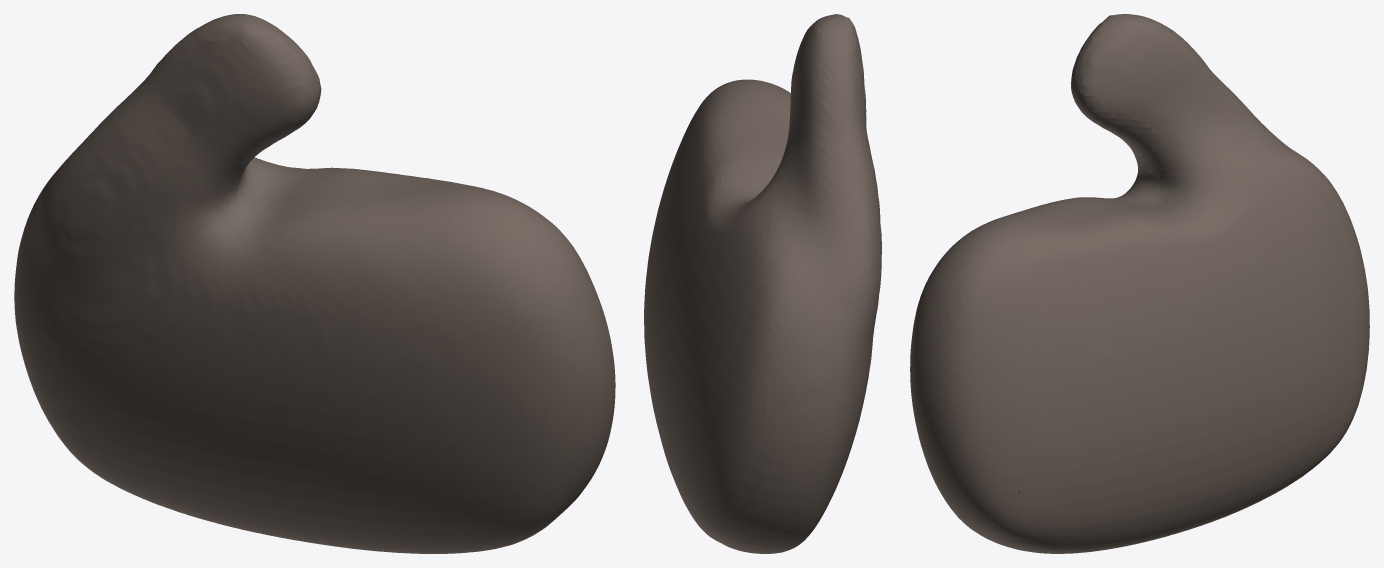
The model's file is jess-right.gltf.
3 renders of one model, left to right at view 1: azimuth 30°, elevation 25°; view 2: azimuth 150°, elevation 25°; view 3: azimuth 270°, elevation 25°, orthographic. The views are drawn at different scales.
Visible parts, largest first — view 1: Layer_11; view 2: Layer_11; view 3: Layer_11.
Part boxes in pixels (left/top/right/bottom): Layer_11: left=14, top=14, right=615, bottom=553; Layer_11: left=644, top=14, right=881, bottom=553; Layer_11: left=910, top=14, right=1369, bottom=553.
Size of the model in its own units: 68.03 by 90.51 by 79.48.
Materials: 1 (1 with a texture image).
